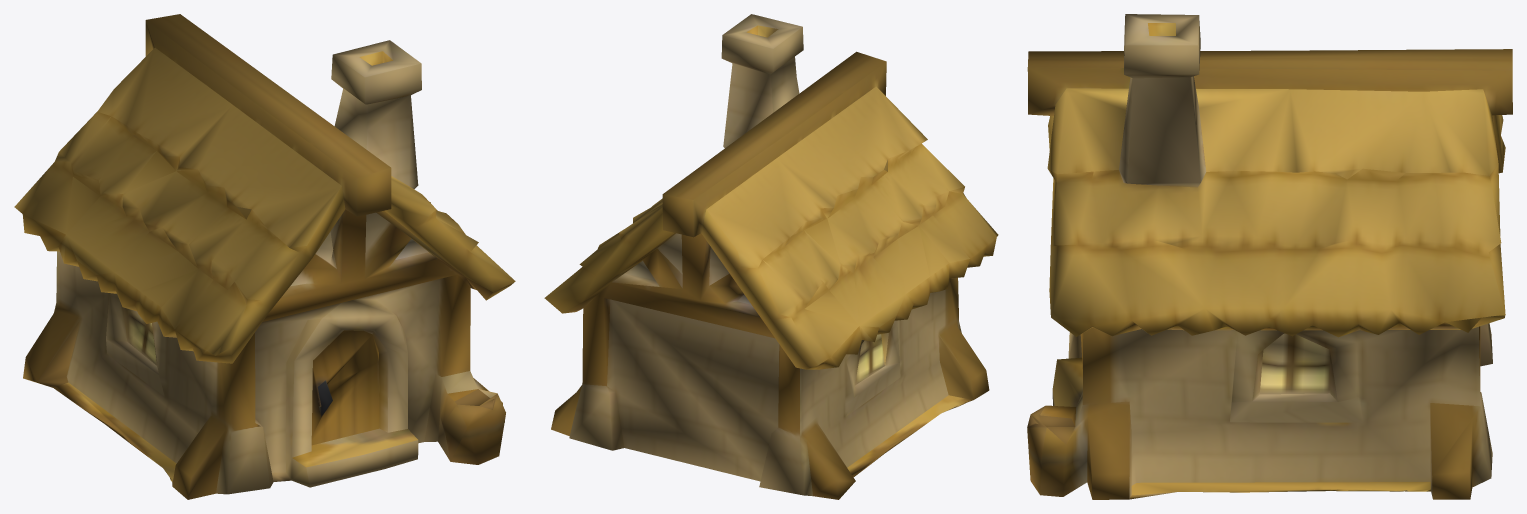
The model's file is cottage.glb.
The picture shows the model from 3 angles, left to right: view 1: azimuth 30°, elevation 25°; view 2: azimuth 150°, elevation 25°; view 3: azimuth 270°, elevation 25°; orthographic projection. The views are drawn at different scales.
Parts seen in each view (by area): view 1: tmp9286xwwu.ply; view 2: tmp9286xwwu.ply; view 3: tmp9286xwwu.ply.
Boxes of the visible parts, <box> form: tmp9286xwwu.ply: <box>14,14,515,499</box>; tmp9286xwwu.ply: <box>544,14,998,499</box>; tmp9286xwwu.ply: <box>1027,14,1512,499</box>.
Bounding box in the file's own units: 1.68 × 1.89 × 1.94.
Materials: 1 (1 with a texture image).
